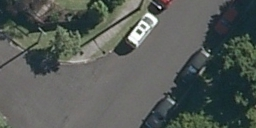DT: (35, 25, 46, 47)
